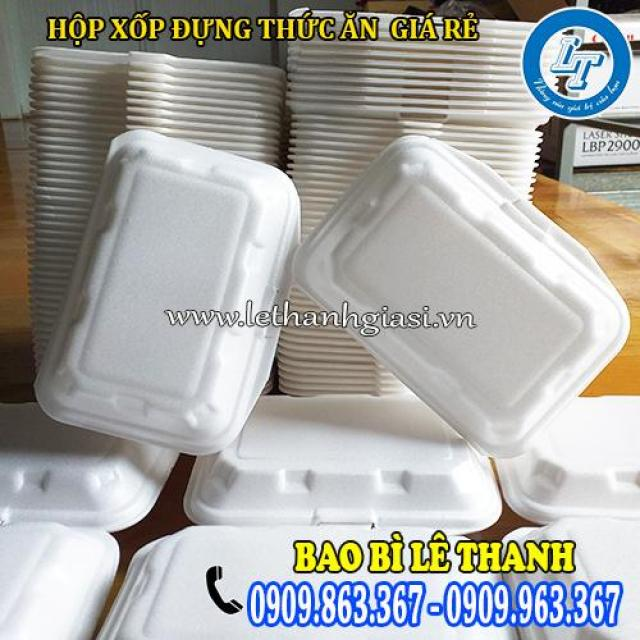styrofoam: (294, 132, 630, 460), (34, 127, 303, 455), (180, 389, 502, 536)
